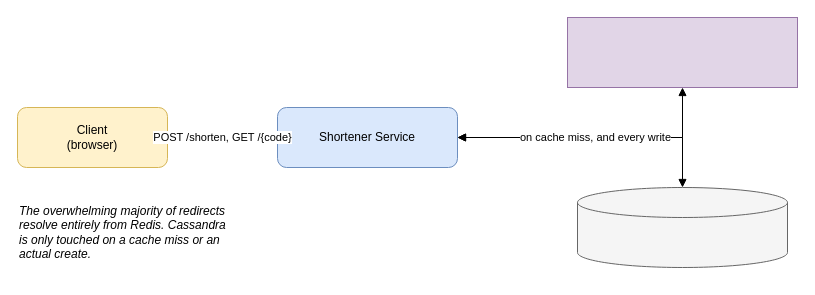
The diagram is 815 pixels wide and 295 high, and some of its shapes have lost their labels. The shapes that lost their labels are listed below. From the top down, each one's centre as x and y in pixels, then its label:
At pixel 682 52: "Redis short:{code} -> longUrl".
At pixel 682 227: "Cassandra url_mappings, id_batches".
